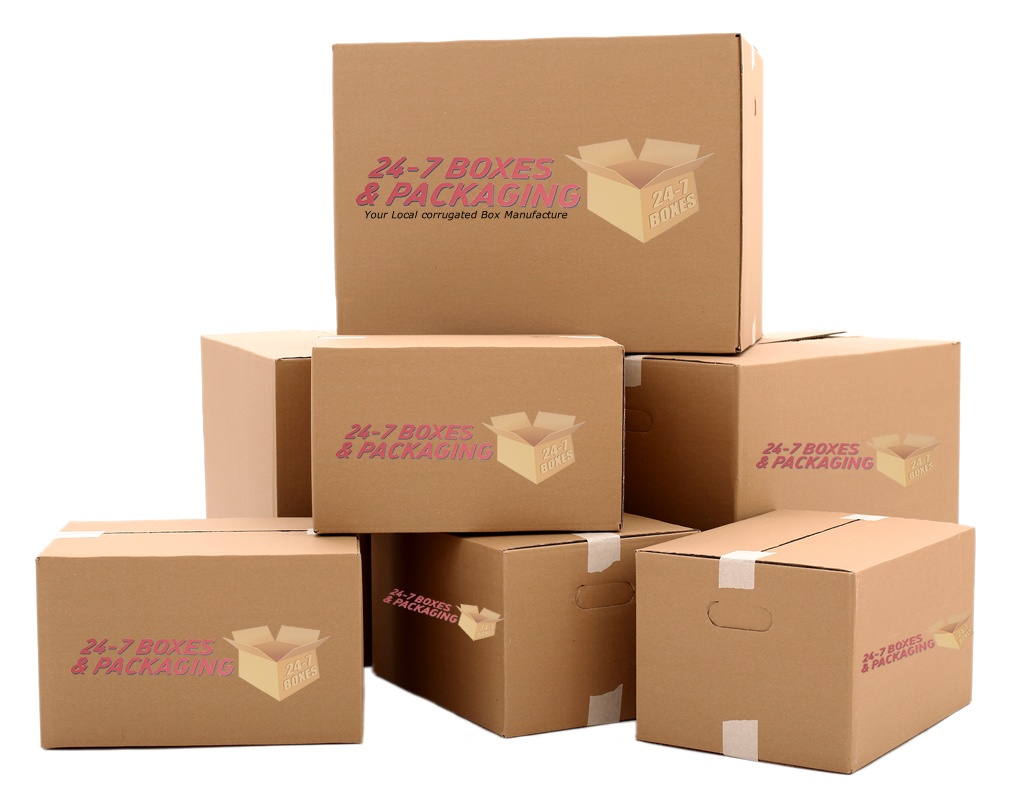Rec_Paper: (25, 17, 1009, 780), (309, 9, 781, 361), (627, 493, 991, 782), (359, 456, 719, 740), (16, 482, 396, 750), (291, 335, 645, 543), (642, 330, 979, 524)
